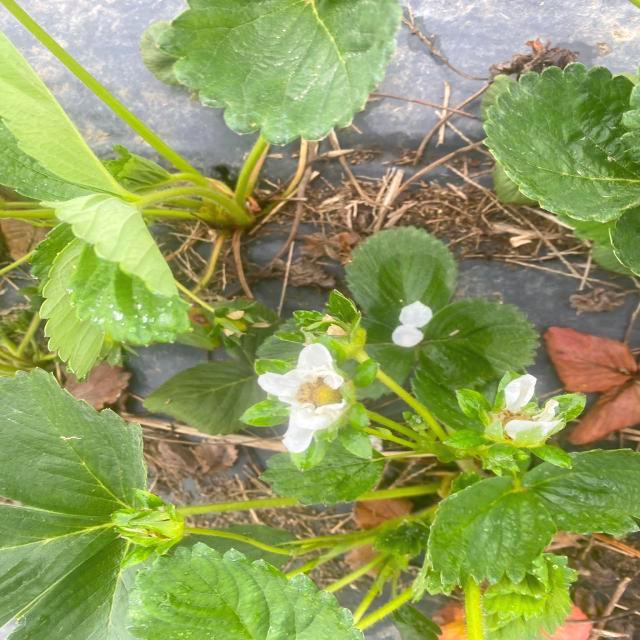flower: (255, 343, 364, 428), (491, 374, 568, 446)
